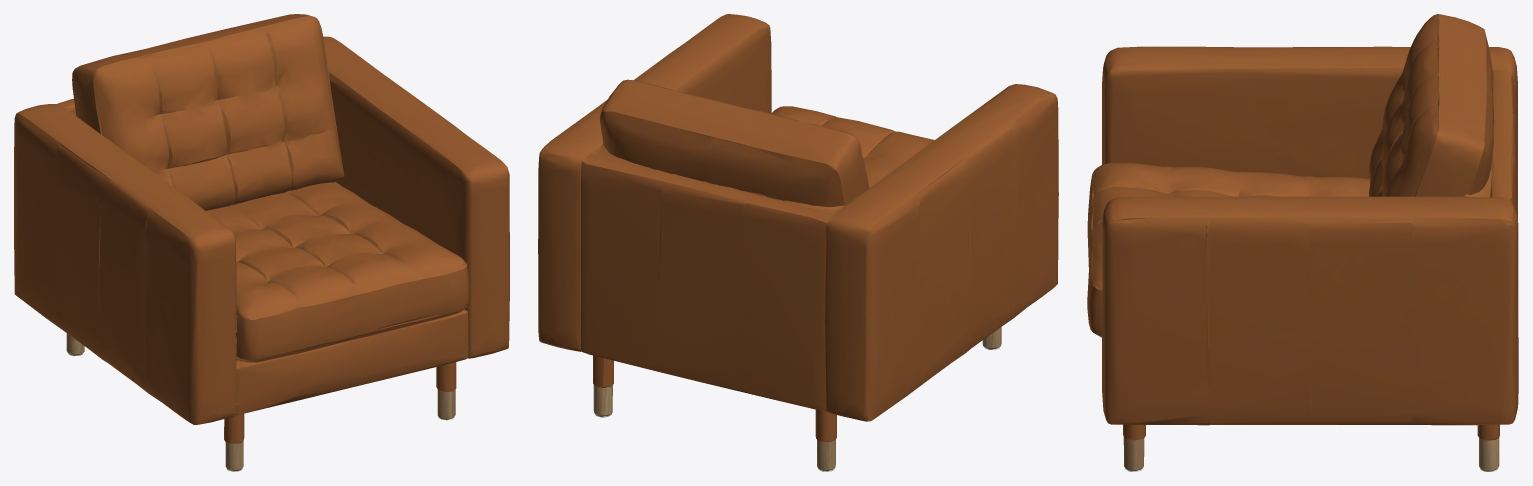
File: 13 - LANDSKRONA - 扶手椅，GrannBomstad 金棕色木頭 IKEA 線上購物.glb
3 renders of one model, left to right at view 1: azimuth 30°, elevation 25°; view 2: azimuth 150°, elevation 25°; view 3: azimuth 270°, elevation 25°, orthographic. The views are drawn at different scales.
Visible parts, largest first — view 1: ProcessedMeshNode; view 2: ProcessedMeshNode; view 3: ProcessedMeshNode.
Part boxes in pixels (box(x1,y1,x2,y2)): ProcessedMeshNode: box(14, 14, 509, 471); ProcessedMeshNode: box(538, 14, 1058, 471); ProcessedMeshNode: box(1087, 14, 1518, 471).
Bounding box in the file's own units: 0.905 × 0.8022 × 0.9232.
Materials: 1 (1 with a texture image).
